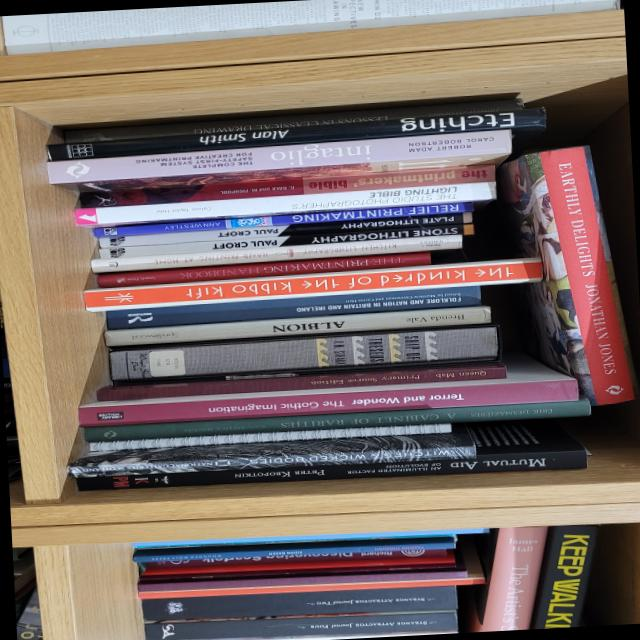book: (491, 142, 639, 418), (76, 350, 578, 427), (75, 417, 588, 492), (45, 107, 547, 175), (47, 129, 513, 196), (82, 257, 543, 313), (108, 324, 498, 384), (83, 399, 590, 444), (66, 425, 476, 480), (63, 98, 523, 144), (137, 543, 485, 602), (74, 181, 497, 229), (79, 164, 495, 210), (106, 285, 480, 331), (102, 305, 489, 348), (96, 362, 506, 402), (93, 208, 473, 249), (98, 219, 474, 259), (90, 234, 461, 274), (95, 201, 473, 238), (97, 249, 431, 290), (141, 585, 458, 622), (136, 564, 467, 593), (132, 534, 457, 563), (145, 610, 456, 640), (477, 517, 549, 640), (527, 516, 599, 638), (131, 527, 489, 550)
